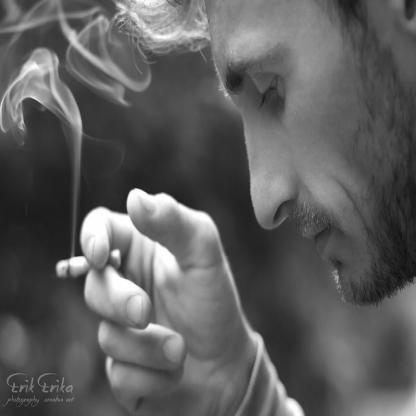smoking: (56, 249, 121, 279)
